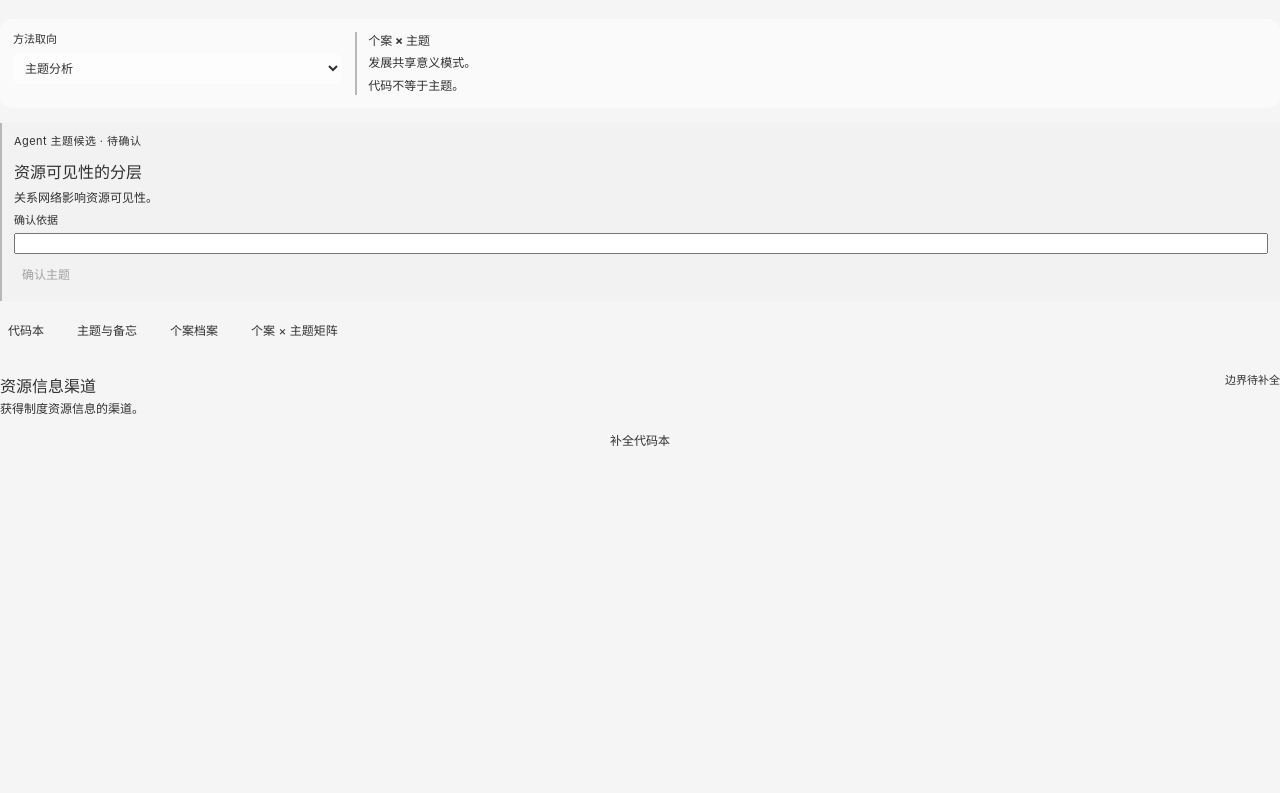
Test: QualitativeWorkspacePanel › keeps a failed formal-object save visible in the workspace
The width and height of the screenshot is (1280, 793).
Step 1. Click the button with aria-label "补全代码本：资源信息渠道" → coordinates (640, 441), box [0,426,1279,456]
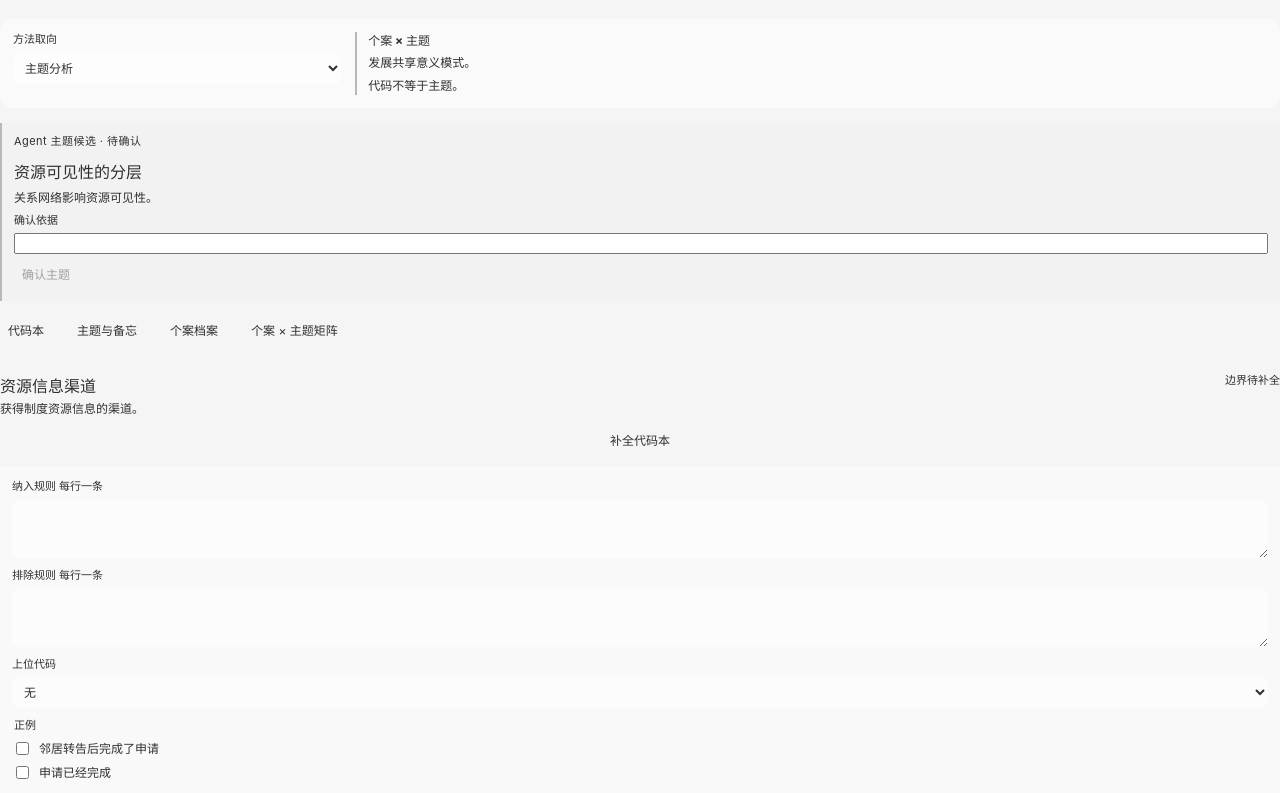
Step 2. Type "明确描述信息进入渠道" into the text box labelled "纳入规则" → coordinates (640, 529), box [12,500,1268,558]
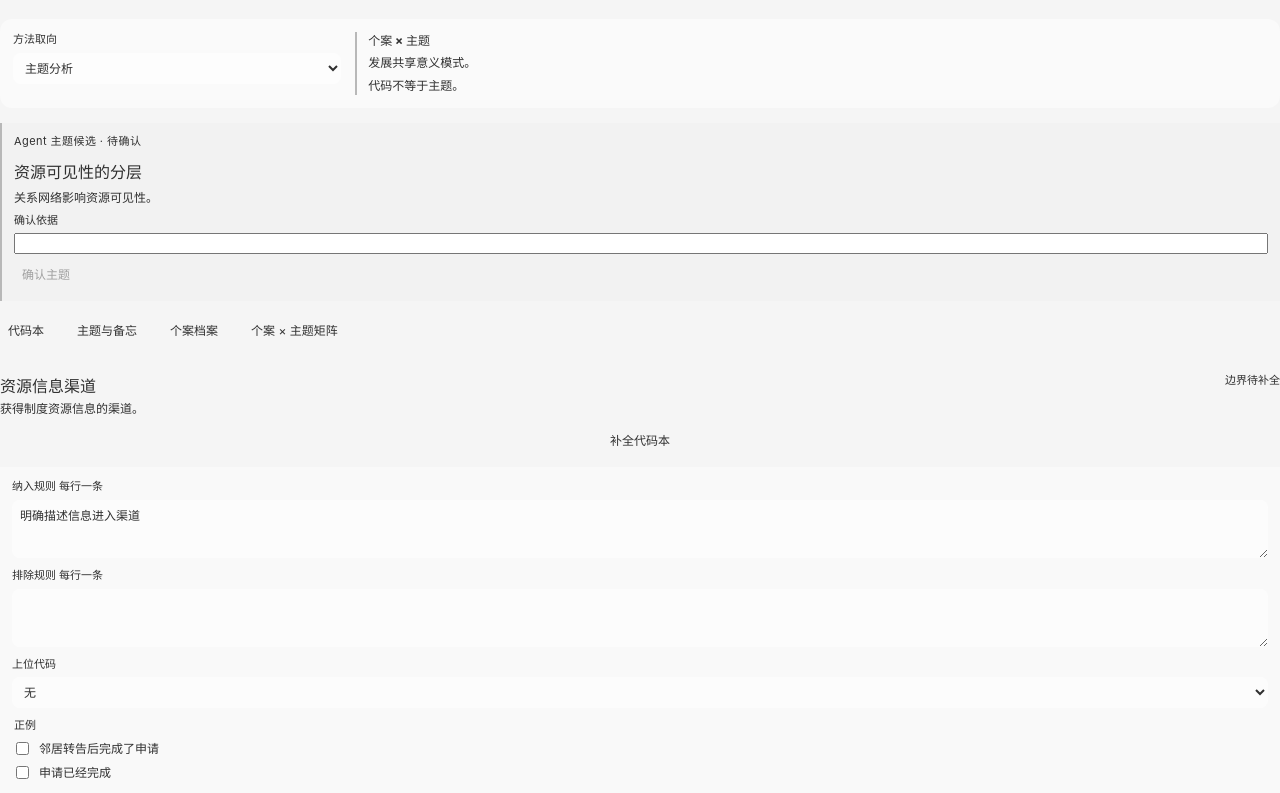
Step 3. Type "只描述申请结果" into the text box labelled "排除规则" → coordinates (640, 618), box [12,588,1268,646]
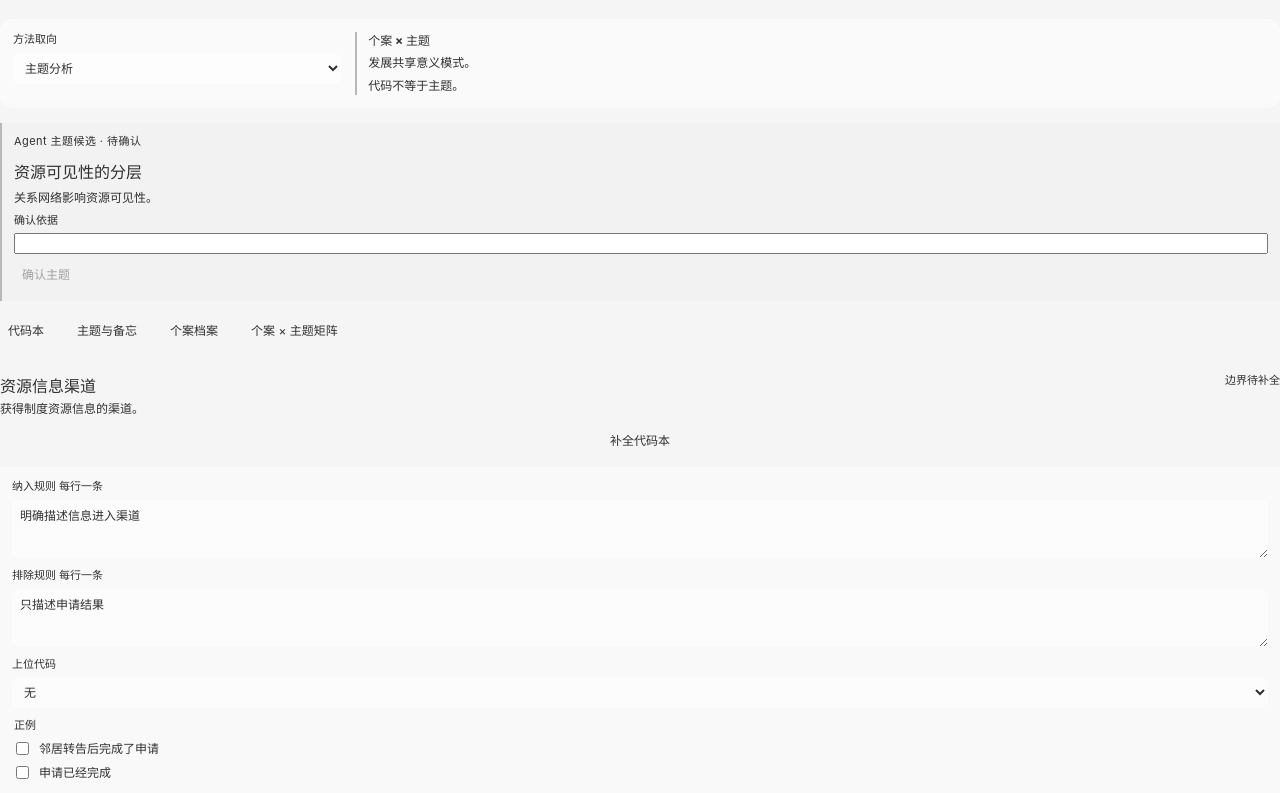
Step 4. Click the checkbox named "正例：邻居转告后完成了申请" → coordinates (22, 749), box [16,742,29,755]
(page scrolled)
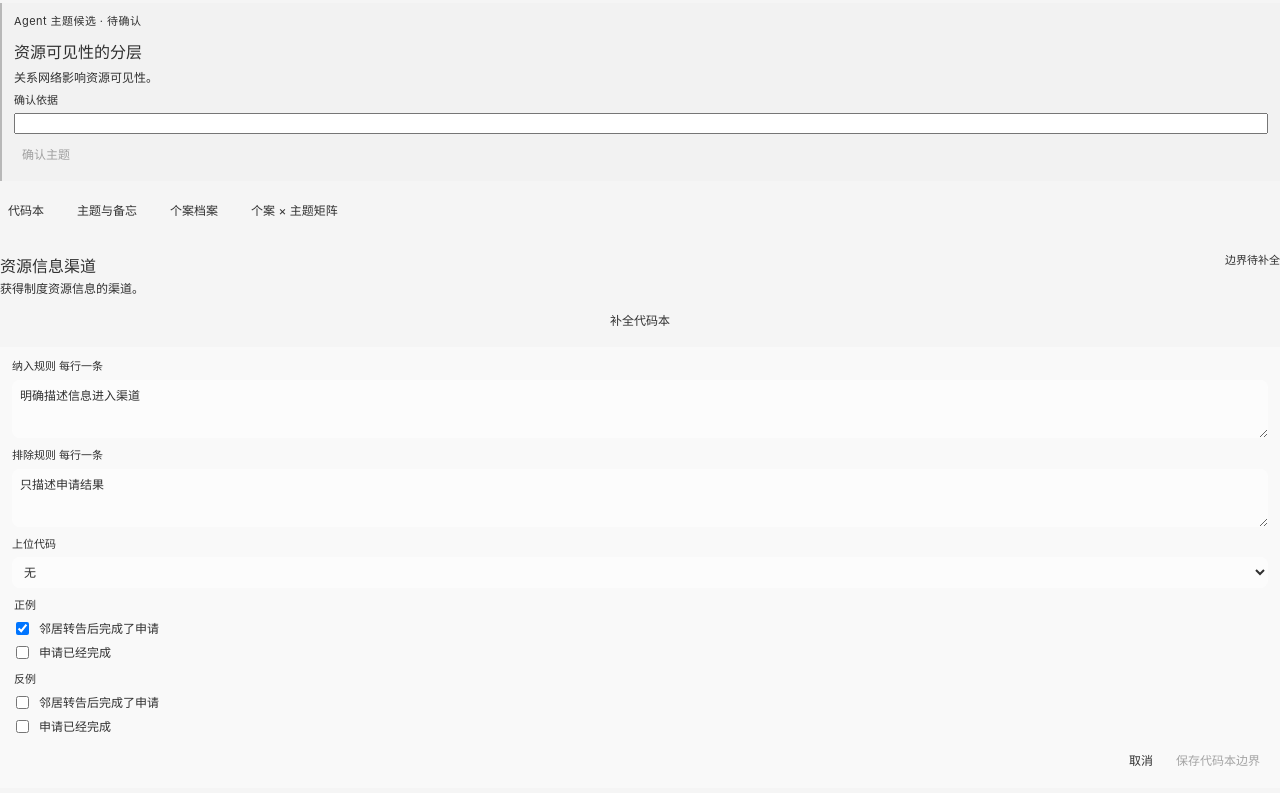
Step 5. Click the checkbox named "反例：申请已经完成" → coordinates (22, 727), box [16,720,29,733]
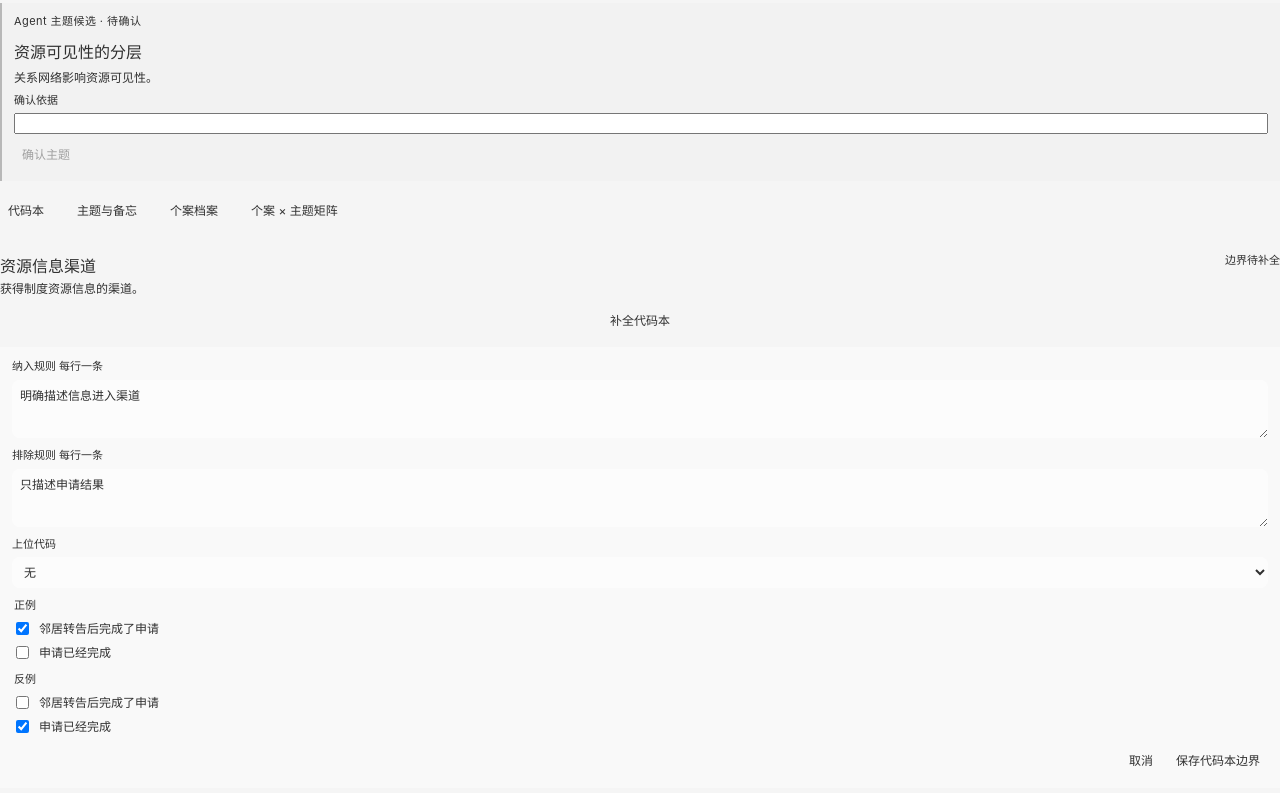
Step 6. Click the button "保存代码本边界" → coordinates (1218, 761), box [1168,746,1268,776]
(page scrolled)
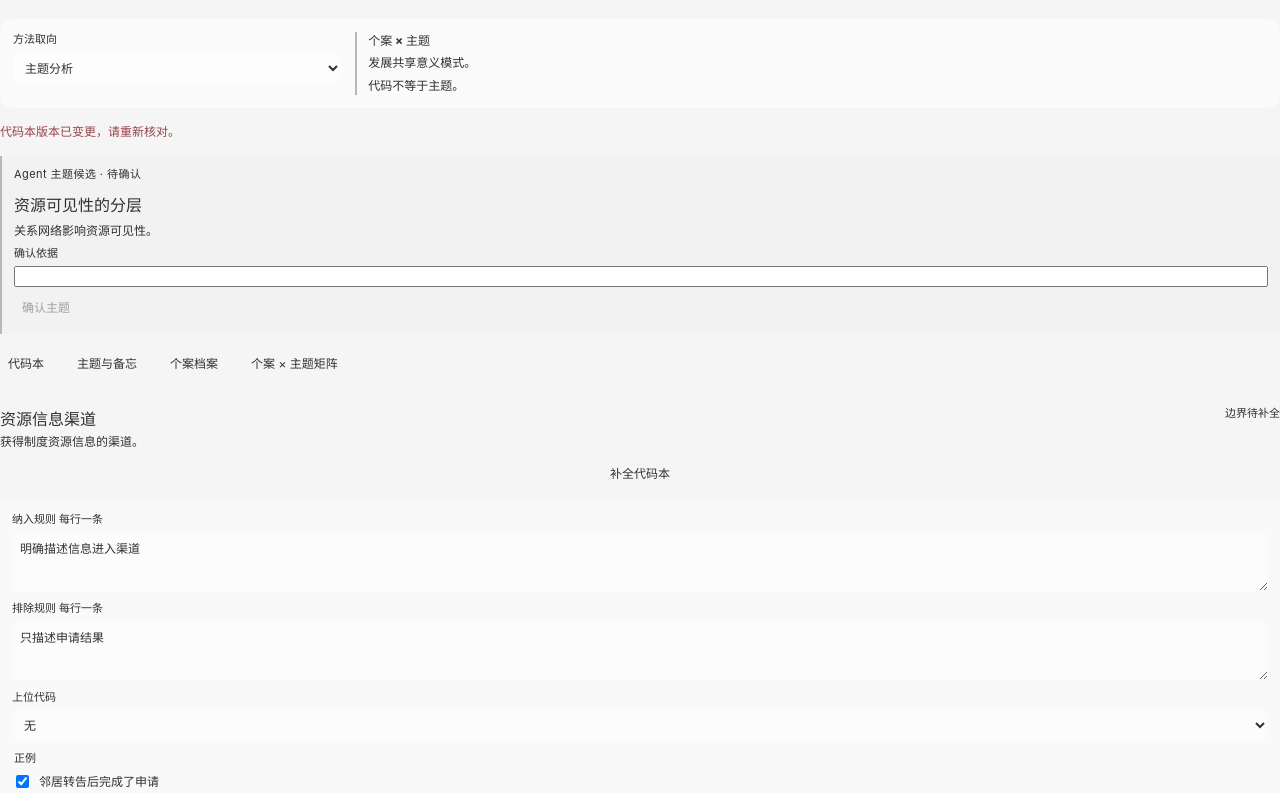
Expected: the message reads "代码本版本已变更，请重新核对。", [0,124,180,139]
